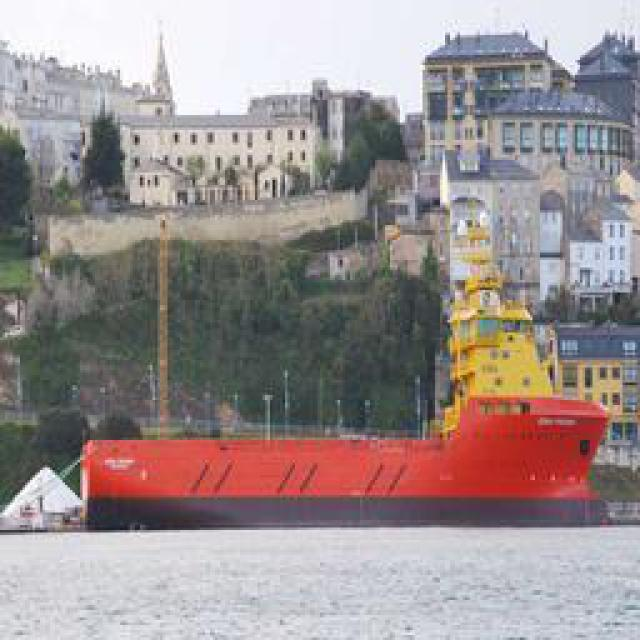Ship: (1, 465, 86, 535)
